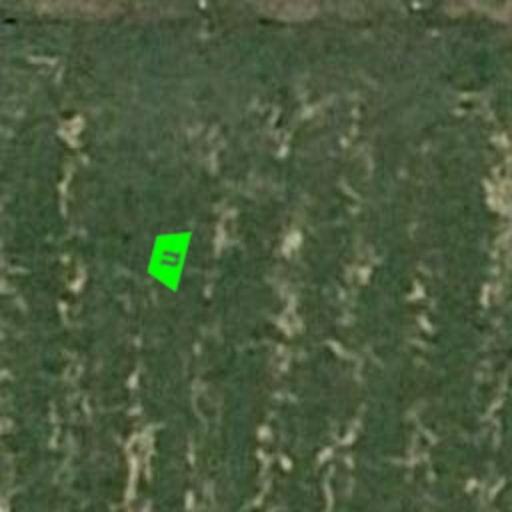trapezoid: (128, 218, 208, 298)
